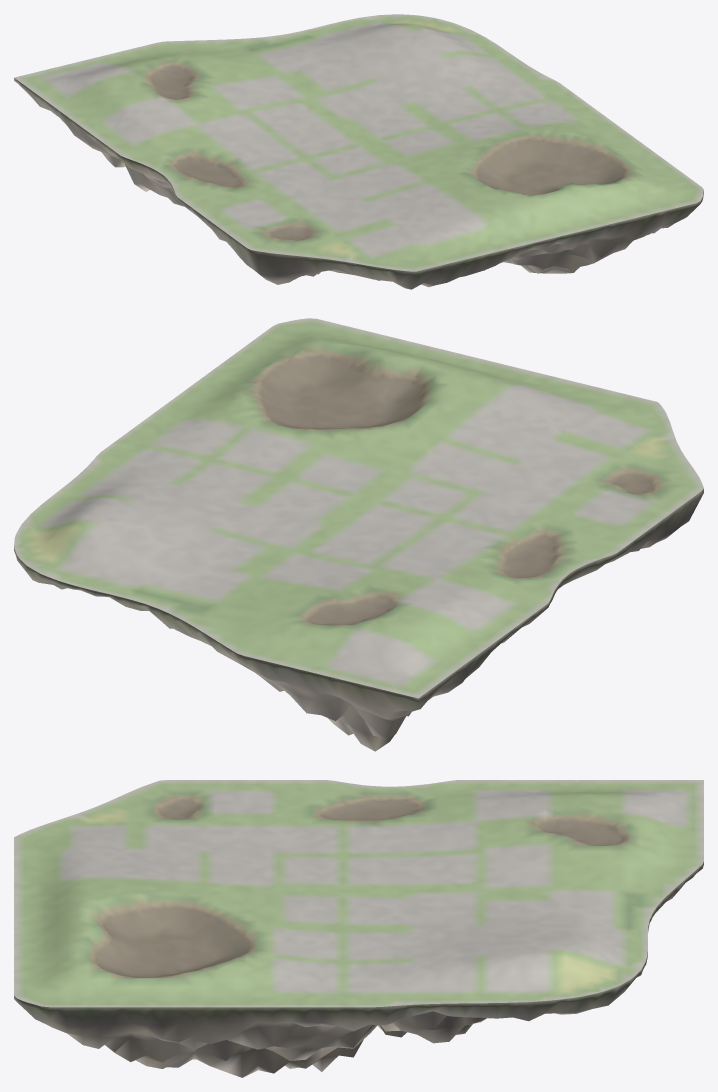
File: SKY-046.rock.glb
The picture shows the model from 3 angles, top to bottom: view 1: azimuth 30°, elevation 25°; view 2: azimuth 150°, elevation 25°; view 3: azimuth 270°, elevation 25°; orthographic projection. The views are drawn at different scales.
Visible parts, largest first — view 1: deck-col, rock; view 2: deck-col, rock; view 3: deck-col, rock.
Boxes of the visible parts, <box> form: deck-col: <box>14,14,703,271</box>; rock: <box>14,78,703,289</box>; deck-col: <box>14,318,703,698</box>; rock: <box>14,488,703,751</box>; deck-col: <box>14,780,703,1007</box>; rock: <box>14,861,703,1077</box>.
Bounding box in the file's own units: 203 × 74.62 × 260.
